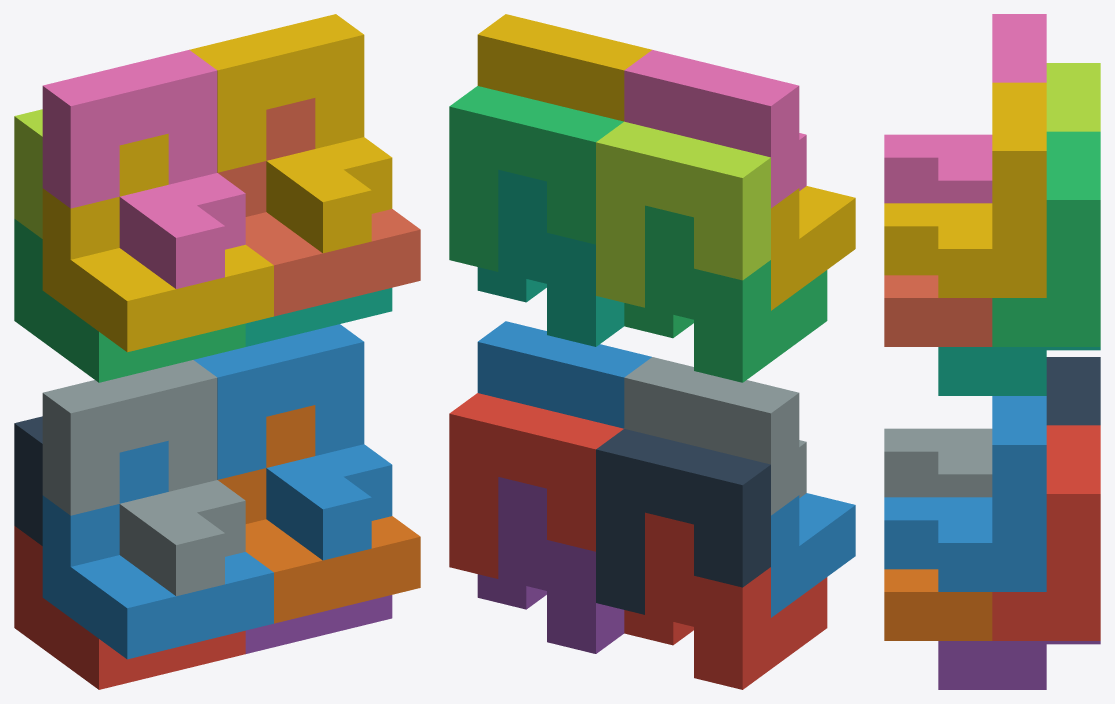
The model's file is tiling.obj.
3 renders of one model, left to right at view 1: azimuth 30°, elevation 25°; view 2: azimuth 150°, elevation 25°; view 3: azimuth 270°, elevation 25°, orthographic. The views are drawn at different scales.
Visible parts, largest first — view 1: copy_2_domain_4, copy_2_domain_2, copy_2_domain_8, copy_2_domain_6, copy_1_domain_2, copy_1_domain_4, copy_1_domain_8, copy_1_domain_6, copy_1_domain_1, copy_1_domain_3, copy_1_domain_7, copy_1_domain_5 (+2 smaller); view 2: copy_2_domain_1, copy_2_domain_3, copy_2_domain_5, copy_2_domain_7, copy_1_domain_3, copy_1_domain_1, copy_2_domain_4, copy_2_domain_2, copy_1_domain_5, copy_1_domain_7, copy_2_domain_8, copy_2_domain_6 (+2 smaller); view 3: copy_2_domain_8, copy_2_domain_6, copy_2_domain_5, copy_2_domain_7, copy_2_domain_4, copy_2_domain_2, copy_1_domain_6, copy_1_domain_8, copy_1_domain_5, copy_1_domain_7, copy_2_domain_3, copy_2_domain_1.
Part boxes in pixels (bbox=[...]): copy_2_domain_4: bbox=[42, 50, 245, 288]; copy_2_domain_2: bbox=[42, 360, 245, 596]; copy_2_domain_8: bbox=[189, 14, 392, 253]; copy_2_domain_6: bbox=[193, 324, 392, 560]; copy_1_domain_2: bbox=[42, 440, 273, 659]; copy_1_domain_4: bbox=[42, 133, 273, 352]; copy_1_domain_8: bbox=[218, 98, 420, 316]; copy_1_domain_6: bbox=[218, 405, 420, 623]; copy_1_domain_1: bbox=[14, 526, 245, 689]; copy_1_domain_3: bbox=[14, 219, 245, 382]; copy_1_domain_7: bbox=[245, 288, 392, 346]; copy_1_domain_5: bbox=[245, 595, 392, 653]; copy_2_domain_1: bbox=[596, 429, 770, 614]; copy_2_domain_3: bbox=[596, 121, 770, 307]; copy_2_domain_5: bbox=[449, 393, 623, 578]; copy_2_domain_7: bbox=[449, 86, 623, 271]; copy_1_domain_3: bbox=[624, 205, 827, 382]; copy_1_domain_1: bbox=[624, 512, 827, 689]; copy_2_domain_4: bbox=[624, 50, 806, 208]; copy_2_domain_2: bbox=[624, 357, 806, 515]; copy_1_domain_5: bbox=[477, 477, 624, 653]; copy_1_domain_7: bbox=[477, 169, 624, 346]; copy_2_domain_8: bbox=[477, 14, 651, 121]; copy_2_domain_6: bbox=[477, 321, 651, 428]; copy_2_domain_8: bbox=[884, 82, 1046, 297]; copy_2_domain_6: bbox=[884, 396, 1046, 591]; copy_2_domain_5: bbox=[992, 425, 1100, 640]; copy_2_domain_7: bbox=[992, 131, 1100, 346]; copy_2_domain_4: bbox=[884, 14, 1046, 203]; copy_2_domain_2: bbox=[884, 428, 992, 497]; copy_1_domain_6: bbox=[884, 569, 992, 640]; copy_1_domain_8: bbox=[884, 275, 992, 346]; copy_1_domain_5: bbox=[938, 641, 1100, 689]; copy_1_domain_7: bbox=[938, 347, 1100, 395]; copy_2_domain_3: bbox=[1046, 63, 1100, 131]; copy_2_domain_1: bbox=[1046, 357, 1100, 425].
Bounding box in the file's own units: 6 × 11 × 4.
